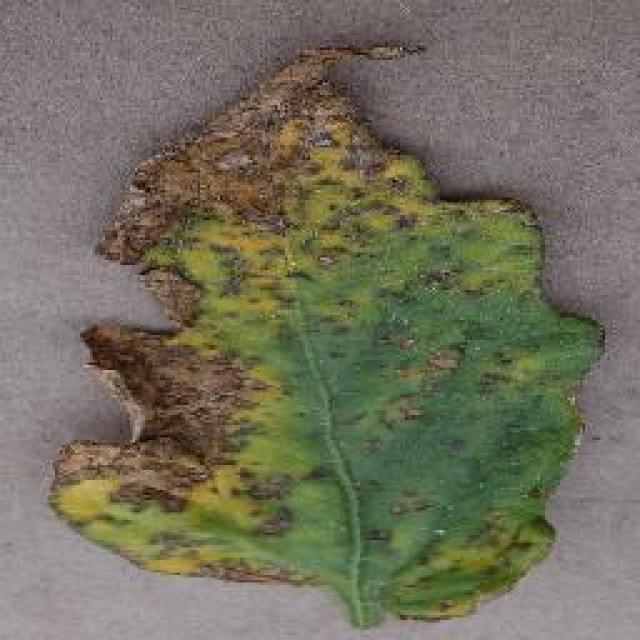Tomato___Bacterial_spot: (41, 41, 614, 625)
